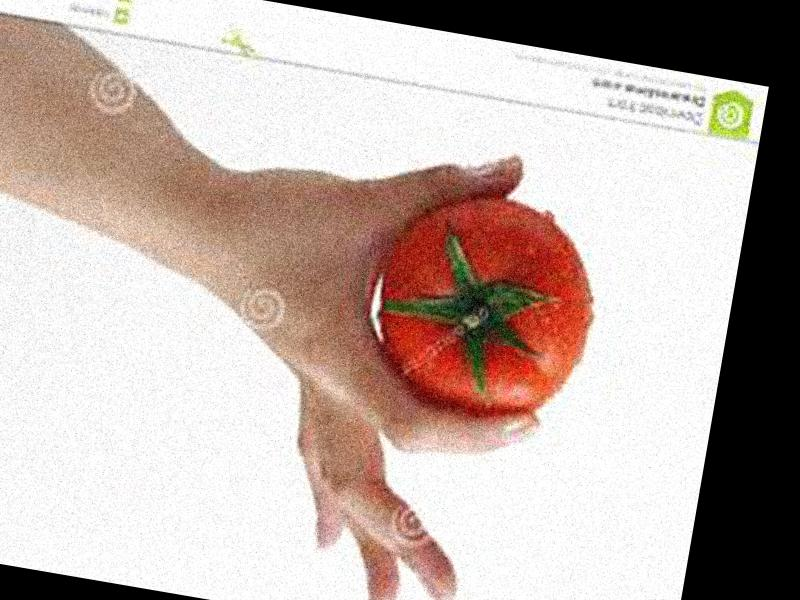Tomato: (362, 181, 609, 433)
